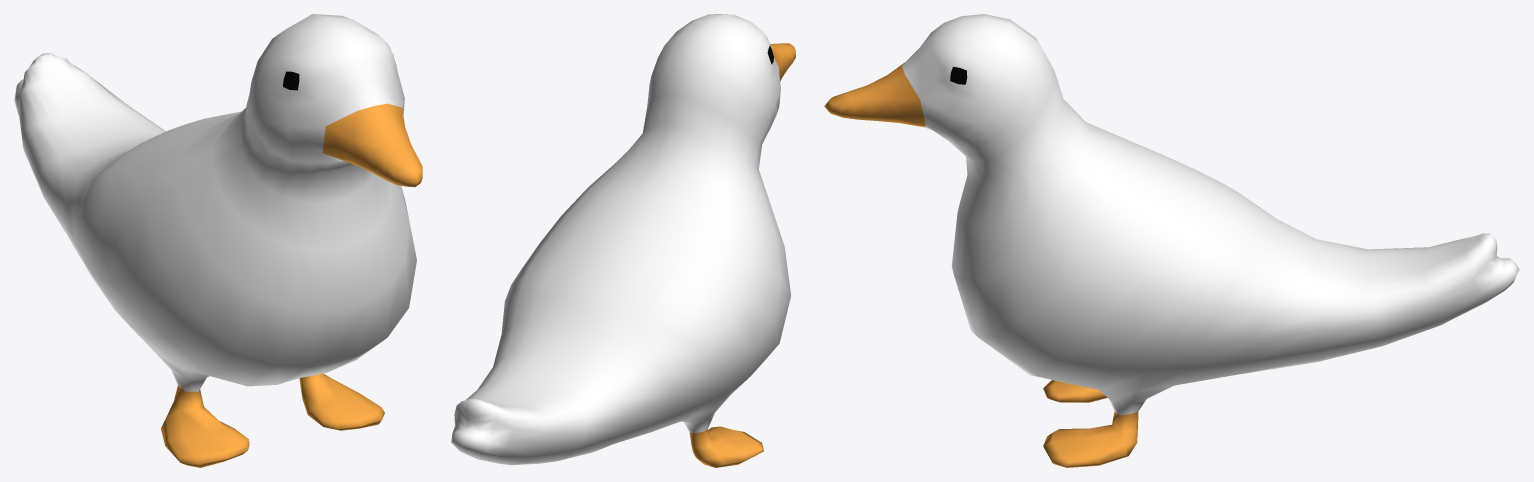
File: Duck.fbx
3 renders of one model, left to right at view 1: azimuth 30°, elevation 25°; view 2: azimuth 150°, elevation 25°; view 3: azimuth 270°, elevation 25°, orthographic. The views are drawn at different scales.
Parts seen in each view (by area): view 1: MainDuck; view 2: MainDuck; view 3: MainDuck.
Part boxes in pixels (x1=…): MainDuck: x1=14, y1=14, x2=422, y2=467; MainDuck: x1=451, y1=14, x2=795, y2=467; MainDuck: x1=824, y1=14, x2=1519, y2=467.
Bounding box in the file's own units: 64.87 × 108 × 167.
